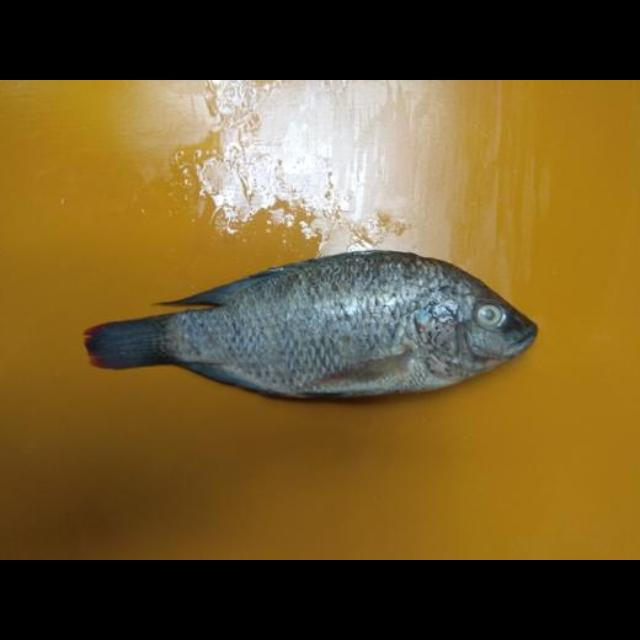Tilapia: (86, 250, 536, 404)
